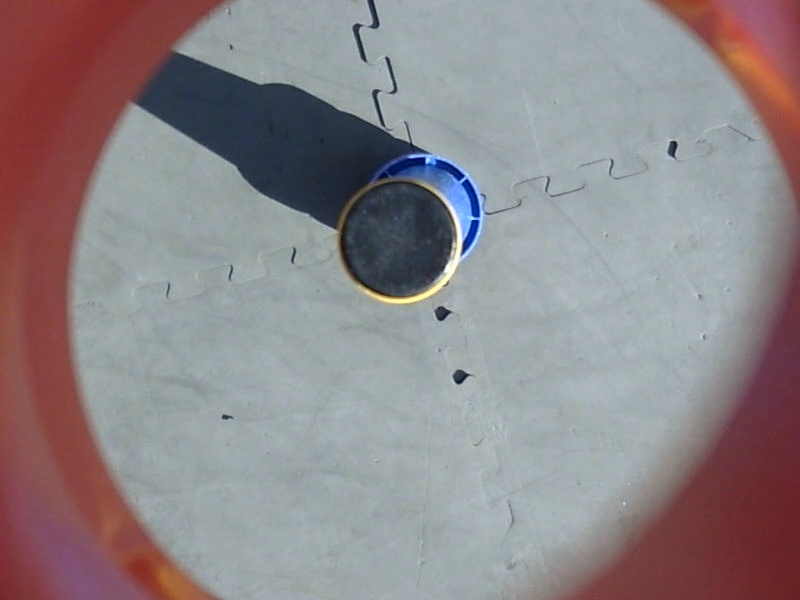tip: (325, 171, 469, 314)
